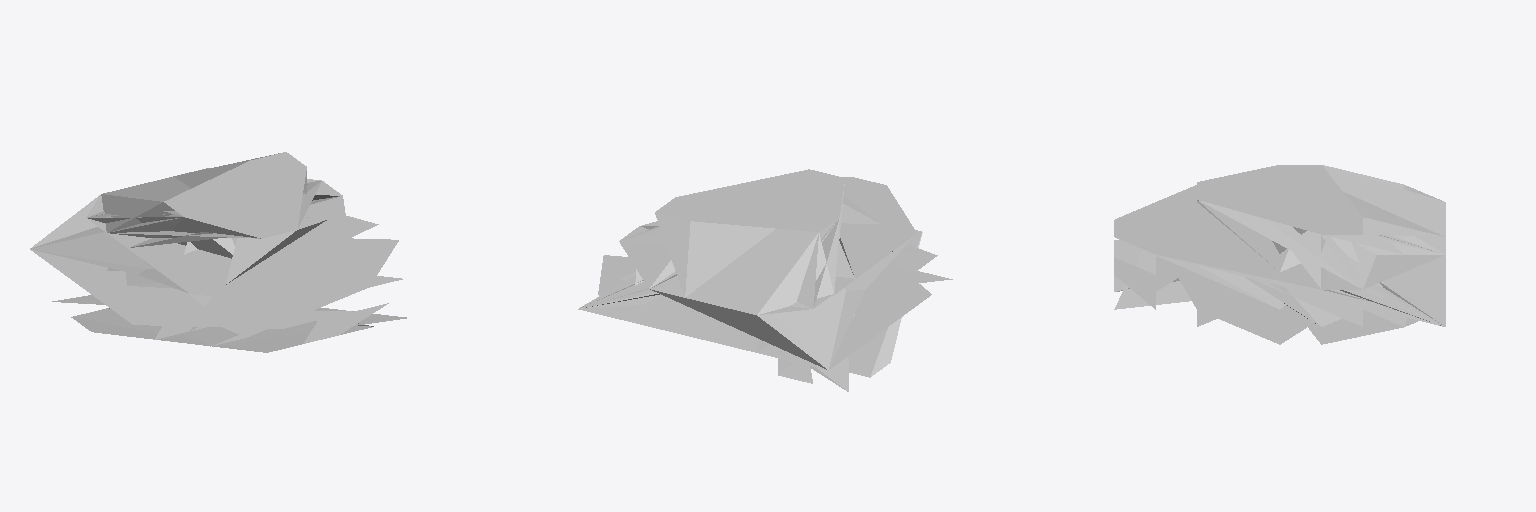
Rendered from Sleep Pod Person 4.obj.
The picture shows the model from 3 angles: view 1: azimuth 30°, elevation 25°; view 2: azimuth 150°, elevation 25°; view 3: azimuth 270°, elevation 25°; orthographic projection.
Bounding box in the file's own units: 8 × 3 × 8.